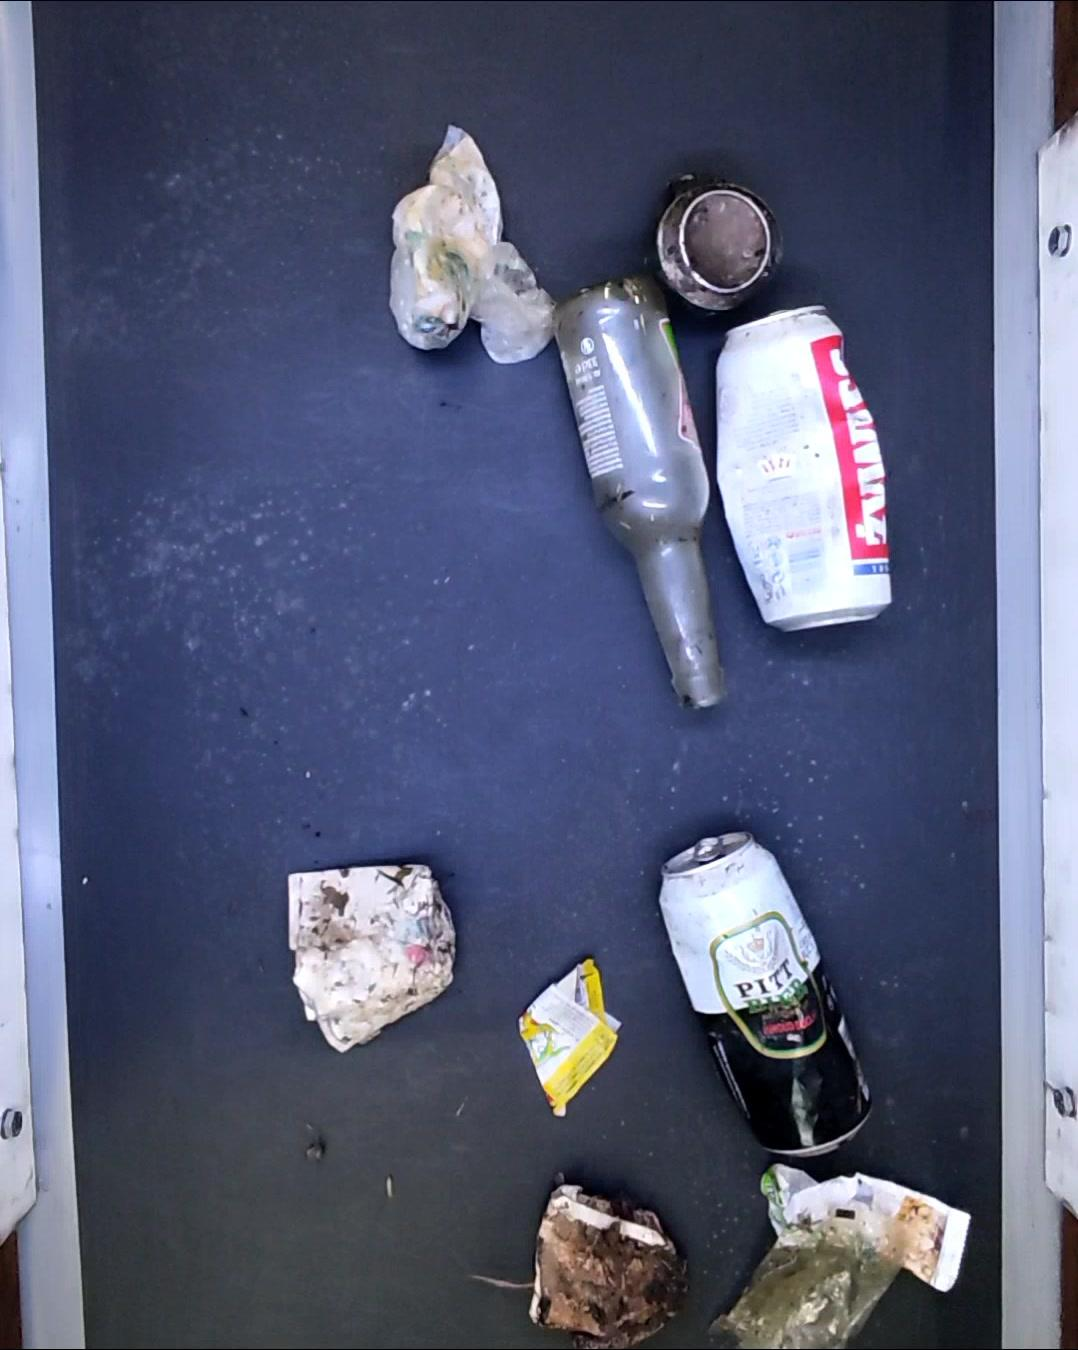Drankblikjes: (658, 833, 870, 1151), (715, 300, 899, 634), (650, 177, 778, 318)
Plastic folies of stukken daarvan 2.5- 50 cm: (393, 127, 558, 366), (703, 1217, 920, 1348)
Snoep snack en chips verpakkingen: (754, 1165, 974, 1287), (518, 961, 621, 1117)
